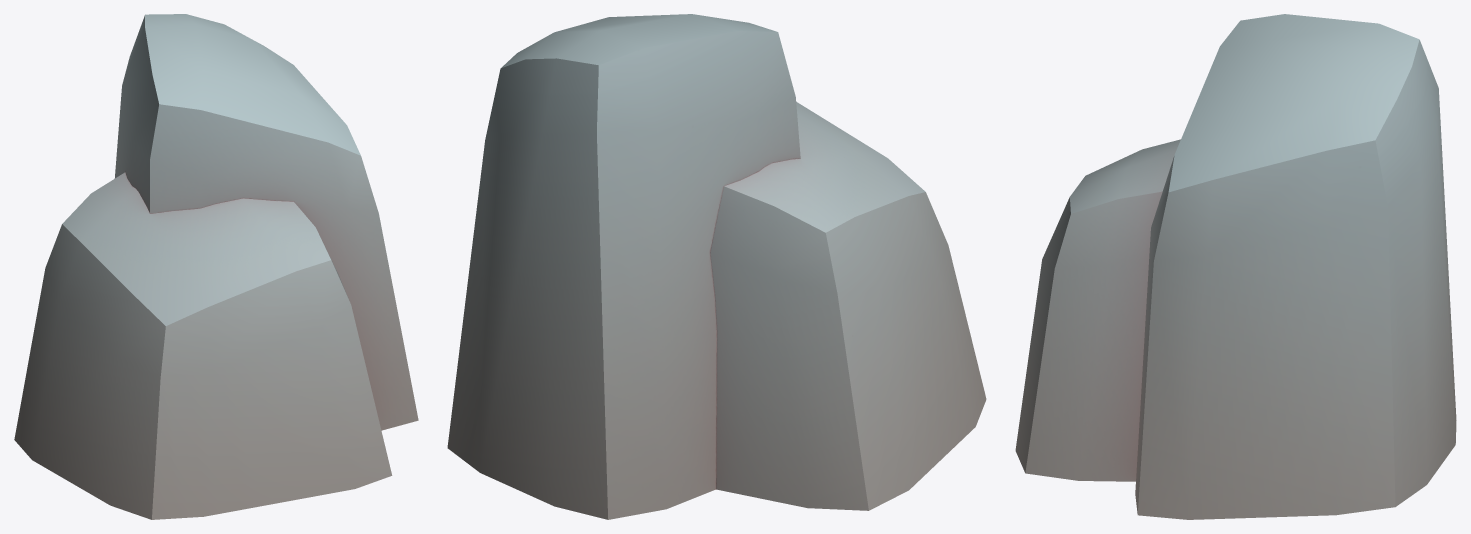
File: Rock.FBX
3 views of the same model, side by side, from view 1: azimuth 30°, elevation 25°; view 2: azimuth 150°, elevation 25°; view 3: azimuth 270°, elevation 25° (orthographic). The views are drawn at different scales.
Visible parts, largest first — view 1: Rock; view 2: Rock; view 3: Rock.
Part boxes in pixels (box(x1,y1,x2,y2)): Rock: box(14, 14, 418, 519); Rock: box(447, 14, 986, 519); Rock: box(1015, 14, 1456, 519).
Bounding box in the file's own units: 99.34 × 99.63 × 99.47.
